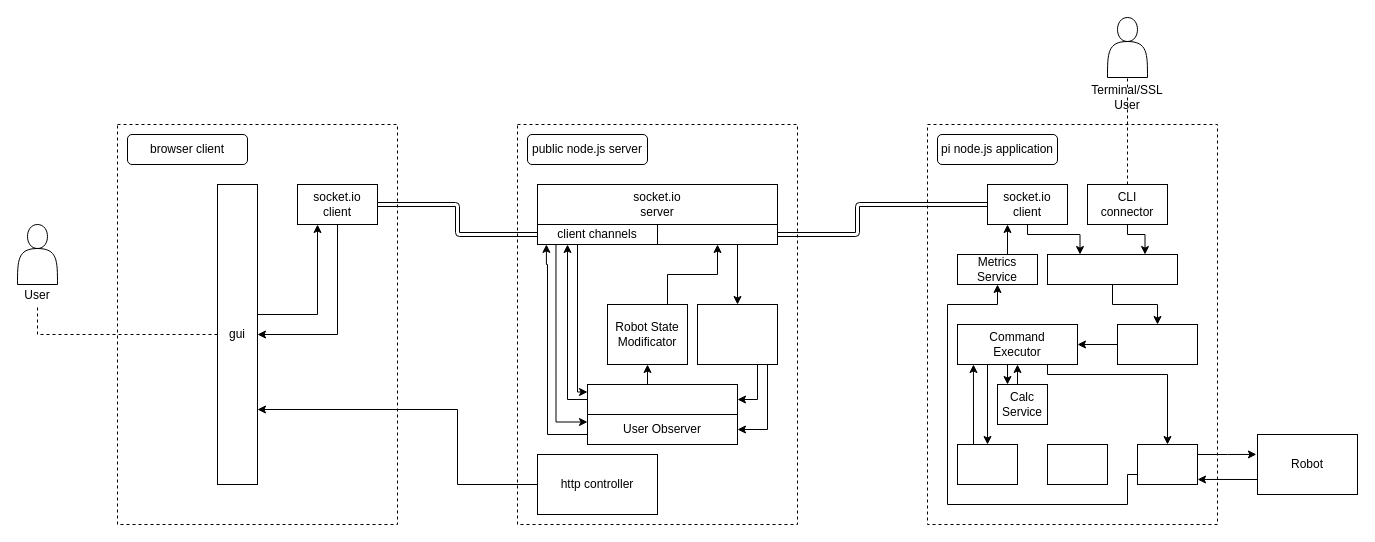
The diagram is 1375 pixels wide and 542 high, and some of its shapes have lost their labels. The centre of each missing label's shape, as x and y in pixels:
API Interface: pixel 1112 269
Command Queue: pixel 1157 344
Logging: pixel 1077 464
PI channel: pixel 717 234
Robot Register: pixel 987 464
Robot State Reprezentator: pixel 737 334
Serial Controller: pixel 1167 464
Singleton User Modificator: pixel 662 399
